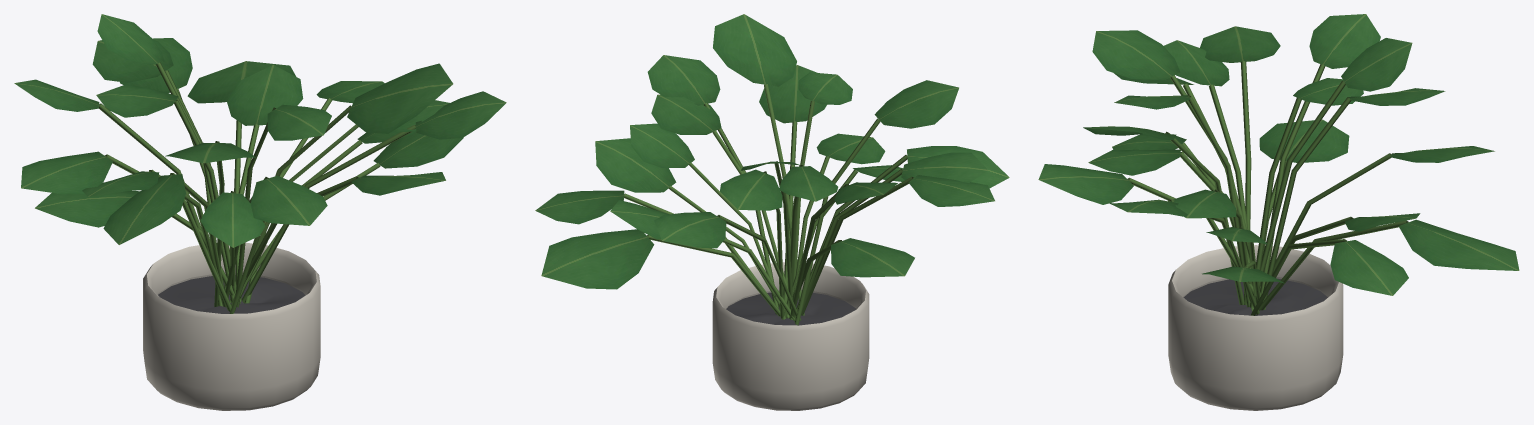
The model's file is decor_c_plant_desk.gltf.
3 renders of one model, left to right at view 1: azimuth 30°, elevation 25°; view 2: azimuth 150°, elevation 25°; view 3: azimuth 270°, elevation 25°, orthographic. The views are drawn at different scales.
Visible parts, largest first — view 1: DecorC_PlantDesk_Leaf_NoCollide, DecorC_PlantDesk_Glaze_NoCollide, DecorC_PlantDesk_Charcoal_NoCollide; view 2: DecorC_PlantDesk_Leaf_NoCollide, DecorC_PlantDesk_Glaze_NoCollide, DecorC_PlantDesk_Charcoal_NoCollide; view 3: DecorC_PlantDesk_Leaf_NoCollide, DecorC_PlantDesk_Glaze_NoCollide, DecorC_PlantDesk_Charcoal_NoCollide.
Boxes of the visible parts, box(x1,y1,x2,y2) form: DecorC_PlantDesk_Leaf_NoCollide: box(14, 14, 506, 313); DecorC_PlantDesk_Glaze_NoCollide: box(143, 242, 320, 410); DecorC_PlantDesk_Charcoal_NoCollide: box(158, 275, 305, 313); DecorC_PlantDesk_Leaf_NoCollide: box(535, 14, 1009, 325); DecorC_PlantDesk_Glaze_NoCollide: box(712, 262, 869, 410); DecorC_PlantDesk_Charcoal_NoCollide: box(726, 292, 855, 325); DecorC_PlantDesk_Leaf_NoCollide: box(1038, 14, 1519, 315); DecorC_PlantDesk_Glaze_NoCollide: box(1168, 245, 1343, 410); DecorC_PlantDesk_Charcoal_NoCollide: box(1183, 278, 1327, 315).
Size of the model in its own units: 0.4086 by 0.278 by 0.3844.
3 materials, 1 textured.
